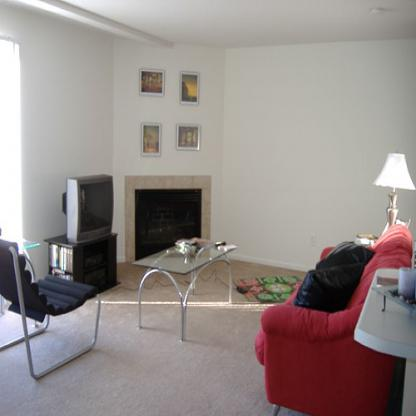chair: (0, 237, 102, 382)
sofa: (254, 224, 415, 415)
tvmonitor: (61, 169, 112, 242)
